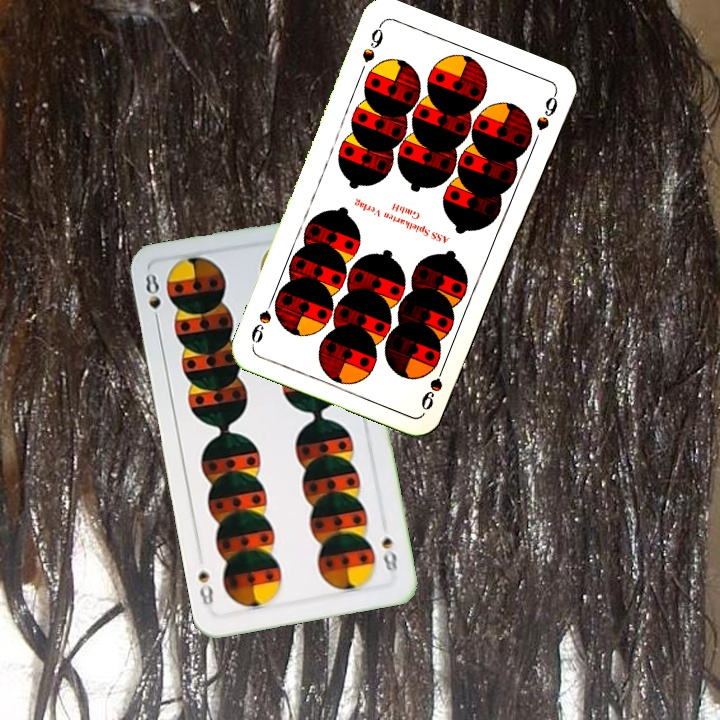S8: (141, 269, 164, 328), (378, 532, 400, 579)
S9: (417, 357, 449, 414), (358, 20, 386, 65)
